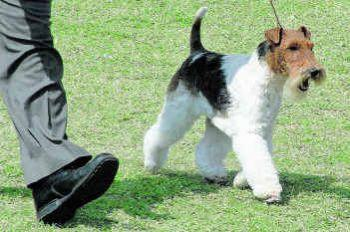wire-haired_fox_terrier: (140, 4, 328, 204)
